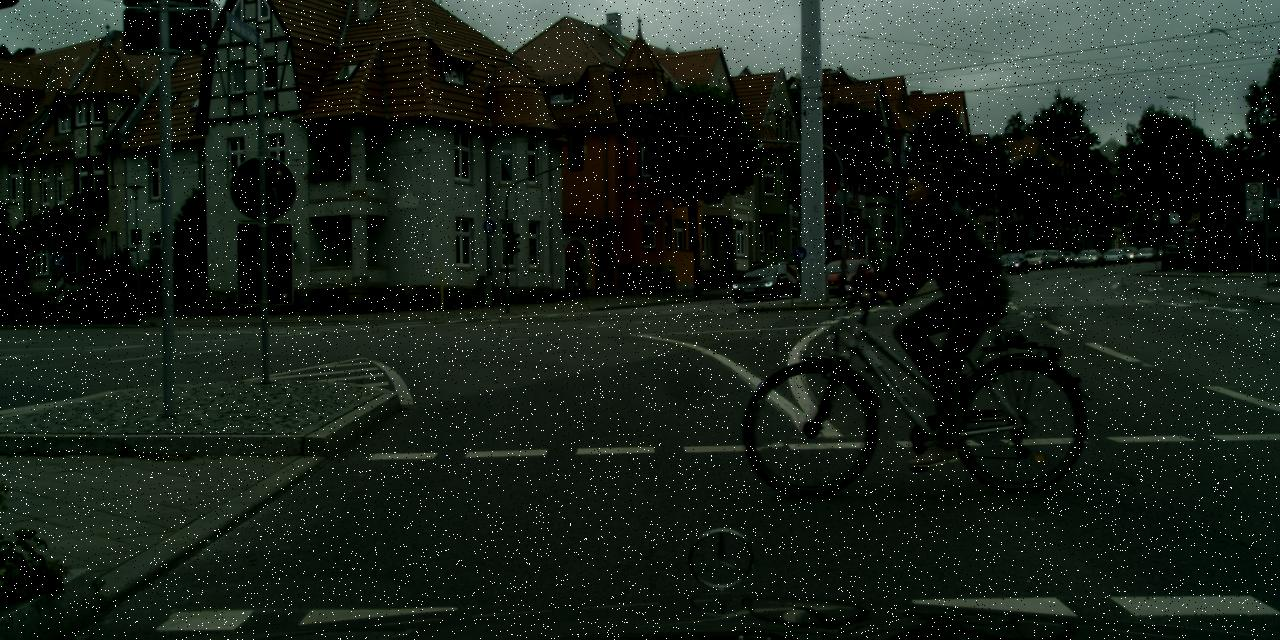ped: (882, 160, 992, 430)
